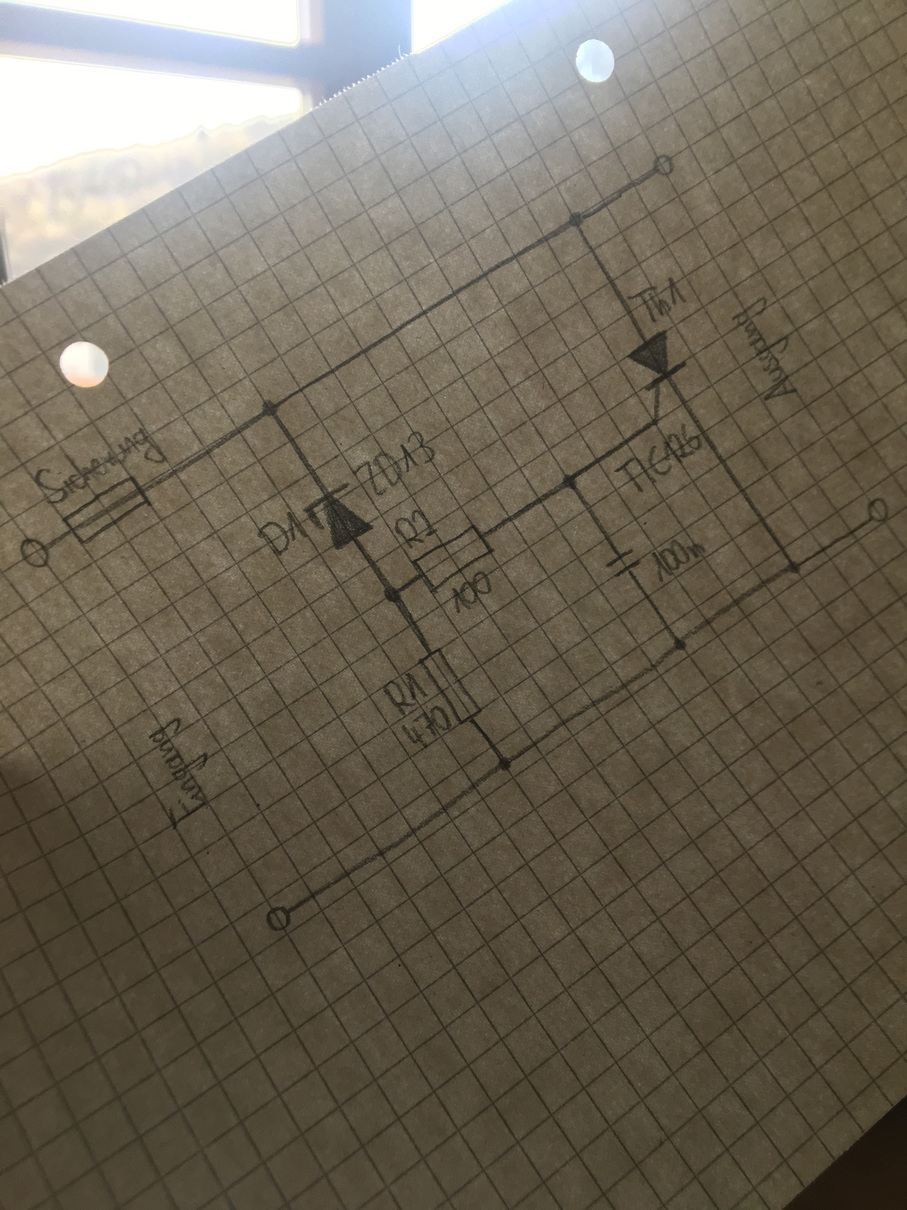capacitor.unpolarized: (603, 544, 645, 582)
diode: (301, 481, 376, 551)
fuse: (60, 475, 153, 546)
junction: (260, 397, 280, 420), (567, 208, 587, 229), (383, 583, 403, 604), (670, 635, 691, 653), (784, 558, 803, 577), (561, 470, 577, 490), (497, 753, 512, 773)
resistor: (409, 523, 495, 595), (416, 645, 485, 727)
terminal: (18, 535, 52, 570), (264, 904, 293, 933), (865, 495, 891, 526), (651, 151, 676, 179)
text: (32, 425, 169, 507), (730, 294, 800, 405), (146, 715, 213, 828), (612, 421, 703, 493), (350, 429, 436, 497), (627, 275, 690, 324), (649, 538, 709, 584), (399, 704, 453, 751), (256, 510, 308, 557), (380, 671, 429, 718), (392, 507, 440, 551), (451, 569, 493, 615)
thyristor: (625, 326, 689, 425)
